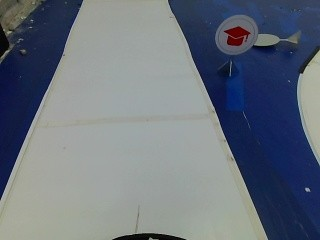school: (213, 12, 257, 56)
